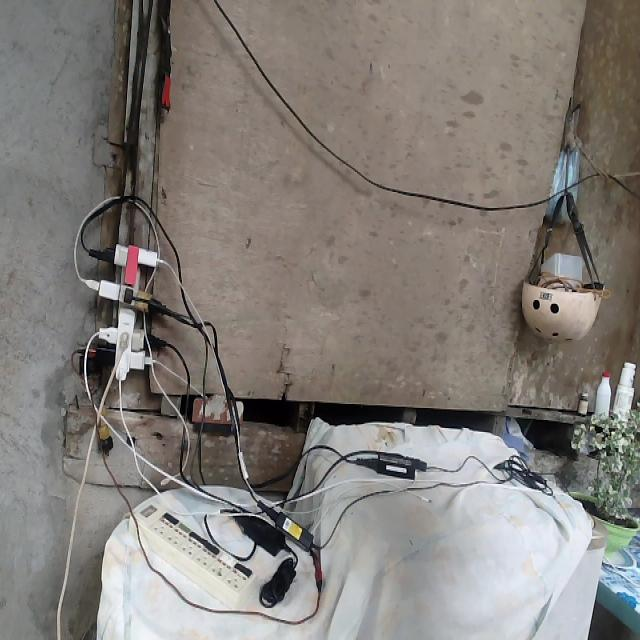-: (91, 240, 166, 384)
